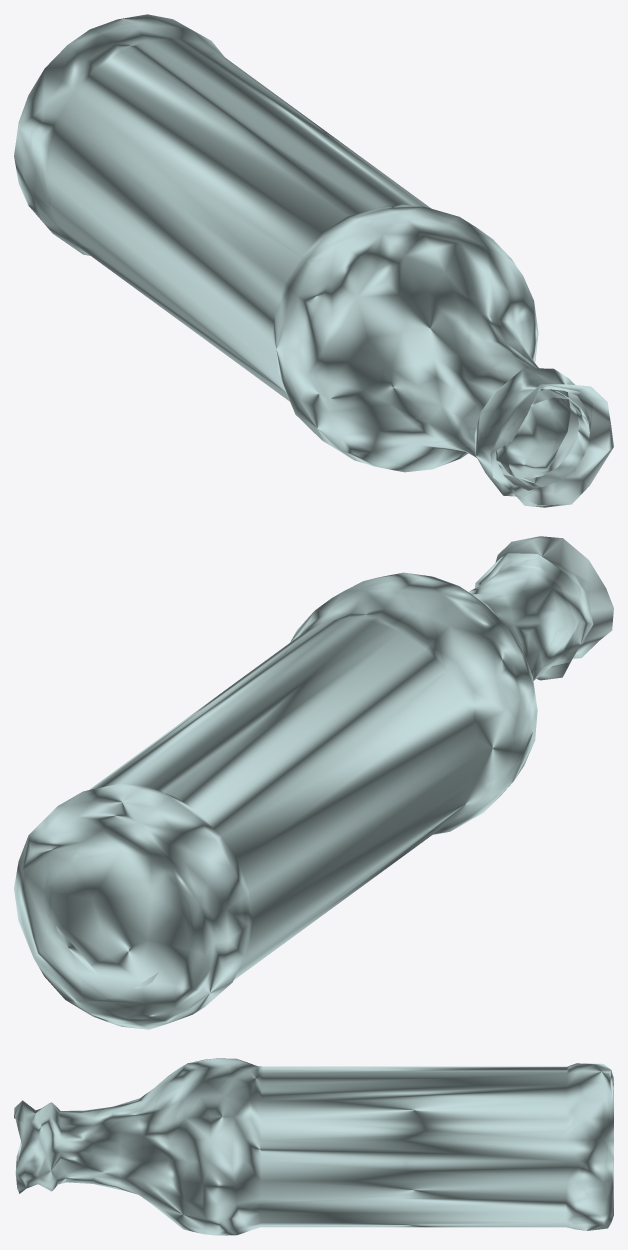
Rendered from model_align.obj.
3 renders of one model, top to bottom at view 1: azimuth 30°, elevation 25°; view 2: azimuth 150°, elevation 25°; view 3: azimuth 270°, elevation 25°, orthographic. The views are drawn at different scales.
Size of the model in its own units: 0.0728 by 0.0729 by 0.245.
